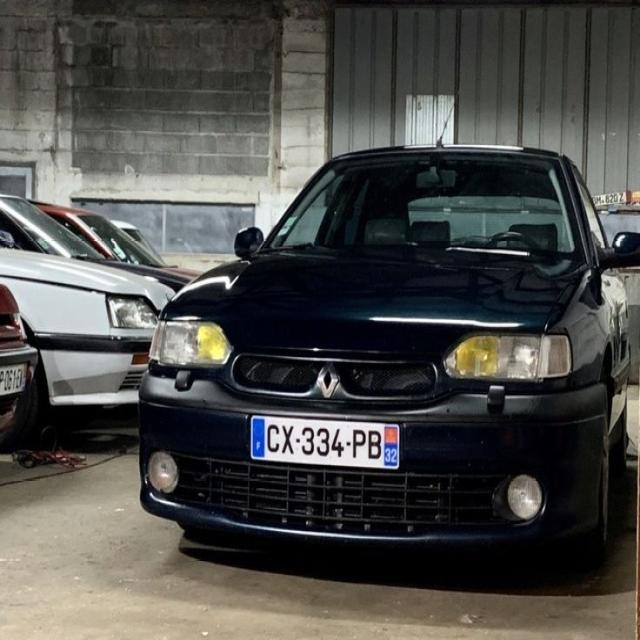Placas: (249, 414, 401, 469)
